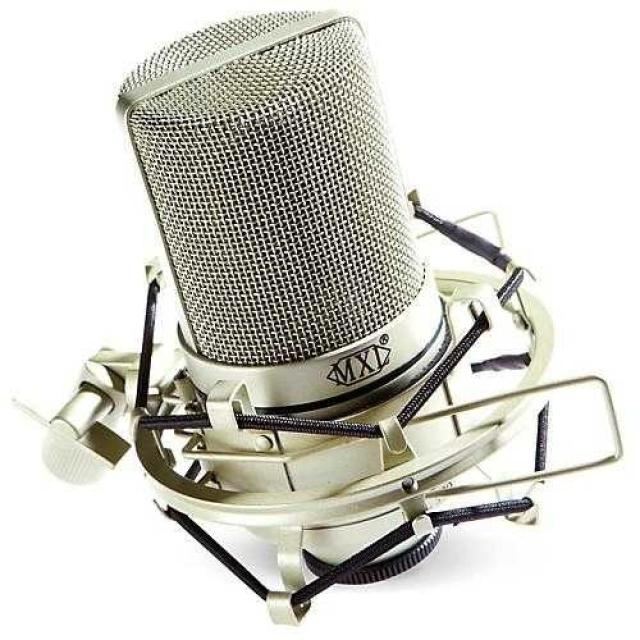microphone: (50, 6, 640, 592)
